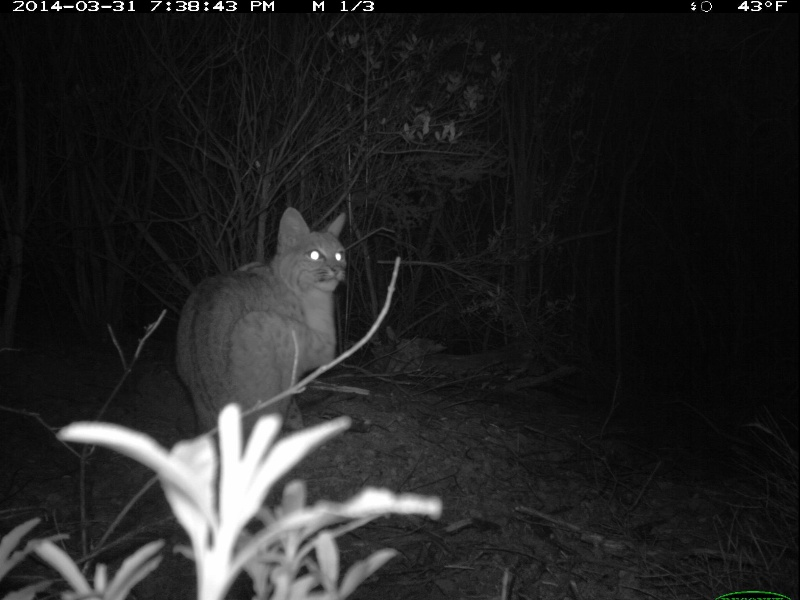cat: (172, 198, 358, 476)
